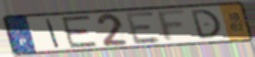2: (96, 12, 131, 48)
D: (189, 8, 223, 41)
E: (124, 10, 164, 45), (60, 14, 100, 49)
F: (155, 8, 189, 44)
I: (44, 18, 61, 48)
